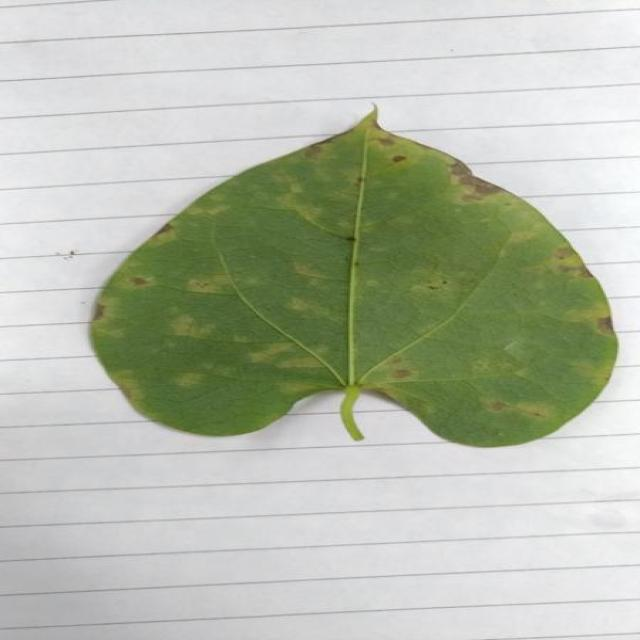Amruthaballi: (92, 110, 617, 446)
defectedAmruthaballi: (303, 111, 617, 413), (92, 142, 355, 434)
